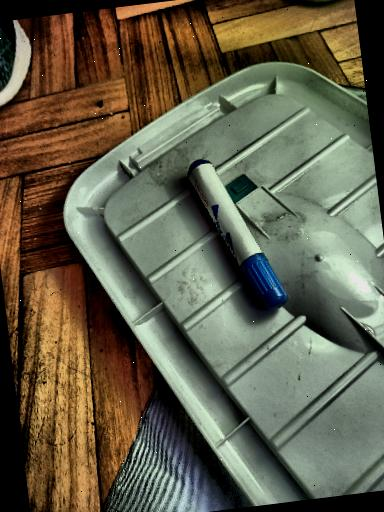marcador azul: (188, 159, 287, 309)
